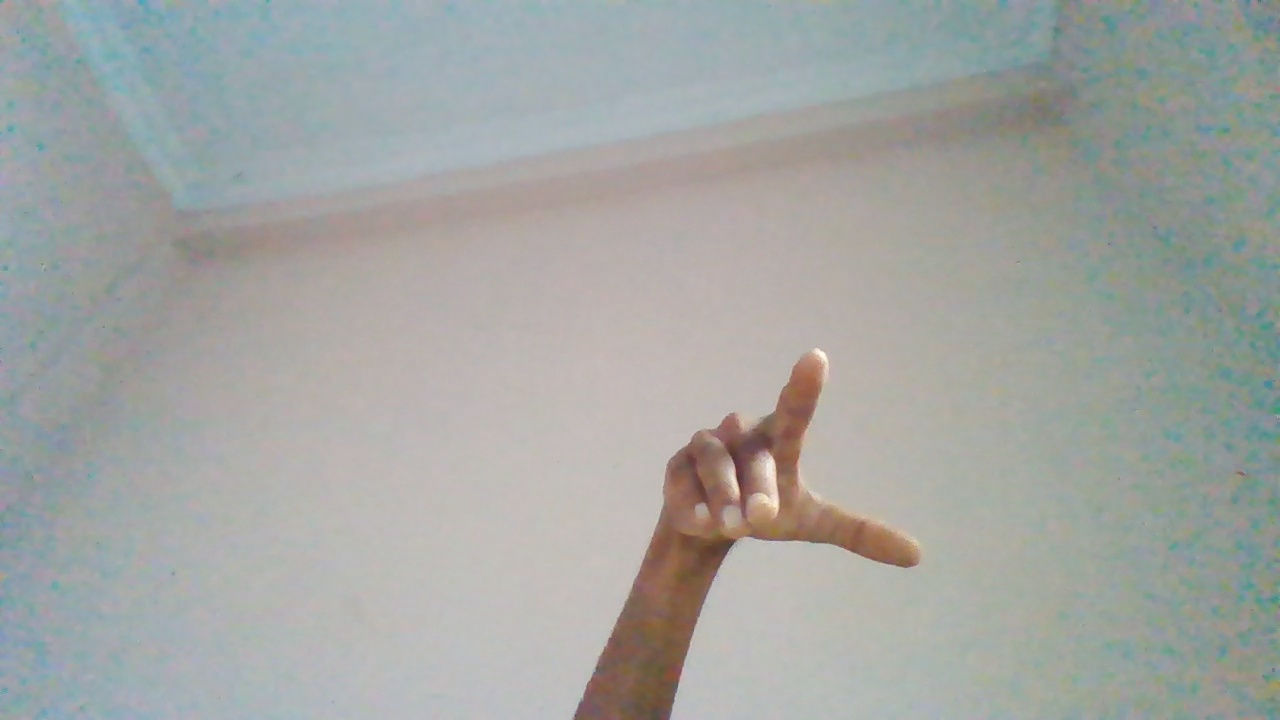ke: (618, 344, 922, 716)
